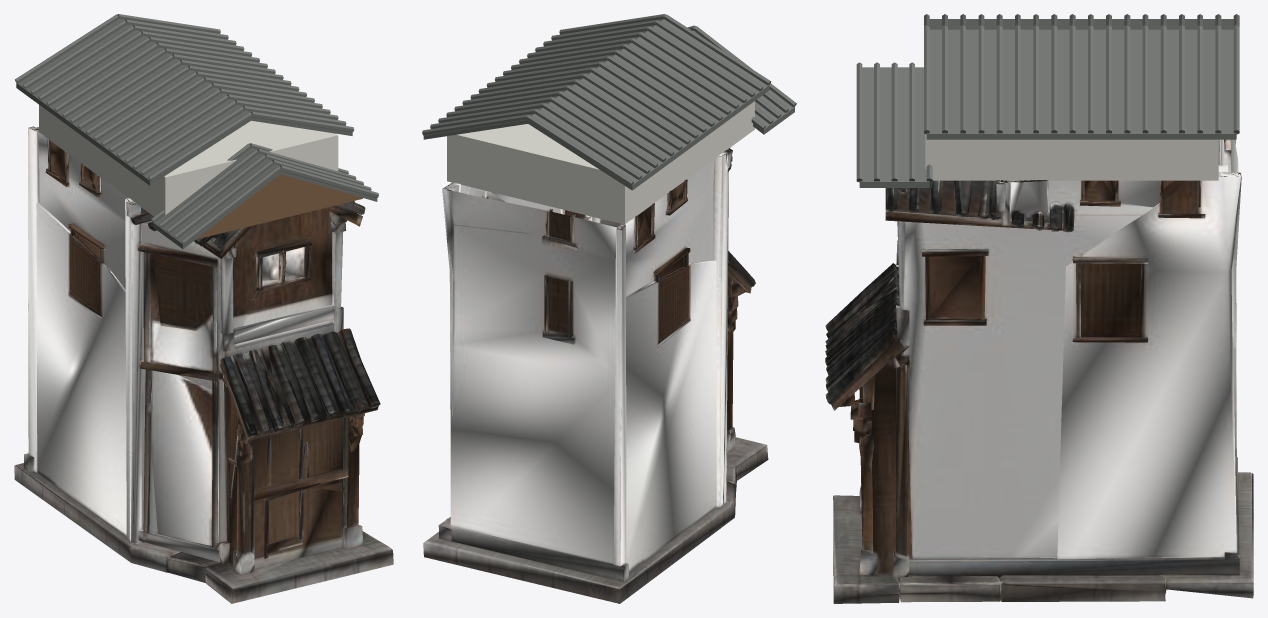
File: clock-v2-720.glb
3 renders of one model, left to right at view 1: azimuth 30°, elevation 25°; view 2: azimuth 150°, elevation 25°; view 3: azimuth 270°, elevation 25°, orthographic. The views are drawn at different scales.
Visible parts, largest first — view 1: Mesh_0, Clock_main_sealed_roof, Clock_upper_complete_walls, Clock_front_complete_gable, Clock_front_sealed_roof, Clock_front_sealed_roof_tile_0_-1, Clock_front_sealed_roof_tile_3_-1, Clock_front_sealed_roof_tile_1_-1, Clock_front_sealed_roof_tile_2_-1, Clock_main_sealed_roof_tile_0_-1, Clock_main_sealed_roof_tile_1_-1, Clock_main_sealed_roof_tile_2_-1 (+34 smaller); view 2: Mesh_0, Clock_upper_complete_walls, Clock_main_sealed_roof, Clock_main_sealed_roof_tile_0_-1, Clock_main_sealed_roof_tile_11_-1, Clock_main_sealed_roof_tile_12_-1, Clock_main_sealed_roof_tile_7_-1, Clock_main_sealed_roof_tile_10_-1, Clock_main_sealed_roof_tile_13_-1, Clock_main_sealed_roof_tile_2_-1, Clock_main_sealed_roof_tile_5_-1, Clock_main_sealed_roof_tile_6_-1 (+28 smaller); view 3: Mesh_0, Clock_main_sealed_roof, Clock_upper_complete_walls, Clock_front_sealed_roof, Clock_front_sealed_roof_tile_0_1, Clock_front_sealed_roof_tile_2_1, Clock_main_sealed_roof_tile_17_1, Clock_main_sealed_roof_tile_4_1, Clock_main_sealed_roof_tile_7_1, Clock_main_sealed_roof_tile_8_1, Clock_main_sealed_roof_tile_11_1, Clock_main_sealed_roof_tile_13_1 (+14 smaller).
Part boxes in pixels (<box>): Mesh_0: <box>14,126,393,603</box>; Clock_main_sealed_roof: <box>16,19,352,185</box>; Clock_upper_complete_walls: <box>39,105,338,216</box>; Clock_front_complete_gable: <box>196,174,362,239</box>; Clock_front_sealed_roof: <box>153,148,377,248</box>; Clock_front_sealed_roof_tile_0_-1: <box>181,166,281,244</box>; Clock_front_sealed_roof_tile_3_-1: <box>158,149,258,227</box>; Clock_front_sealed_roof_tile_1_-1: <box>174,160,273,239</box>; Clock_front_sealed_roof_tile_2_-1: <box>166,155,266,233</box>; Clock_main_sealed_roof_tile_0_-1: <box>148,112,252,181</box>; Clock_main_sealed_roof_tile_1_-1: <box>140,106,244,175</box>; Clock_main_sealed_roof_tile_2_-1: <box>132,100,236,169</box>; Mesh_0: <box>423,147,768,603</box>; Clock_upper_complete_walls: <box>447,101,754,224</box>; Clock_main_sealed_roof: <box>423,19,769,190</box>; Clock_main_sealed_roof_tile_0_-1: <box>663,14,771,85</box>; Clock_main_sealed_roof_tile_11_-1: <box>575,79,682,150</box>; Clock_main_sealed_roof_tile_12_-1: <box>567,85,674,156</box>; Clock_main_sealed_roof_tile_7_-1: <box>607,56,714,126</box>; Clock_main_sealed_roof_tile_10_-1: <box>583,73,690,144</box>; Clock_main_sealed_roof_tile_13_-1: <box>559,91,666,162</box>; Clock_main_sealed_roof_tile_2_-1: <box>647,26,754,97</box>; Clock_main_sealed_roof_tile_5_-1: <box>623,44,730,114</box>; Clock_main_sealed_roof_tile_6_-1: <box>615,50,722,120</box>; Mesh_0: <box>825,139,1253,603</box>; Clock_main_sealed_roof: <box>926,19,1236,139</box>; Clock_upper_complete_walls: <box>925,134,1218,180</box>; Clock_front_sealed_roof: <box>859,67,929,187</box>; Clock_front_sealed_roof_tile_0_1: <box>856,63,862,182</box>; Clock_front_sealed_roof_tile_2_1: <box>891,63,897,181</box>; Clock_main_sealed_roof_tile_17_1: <box>1233,26,1239,134</box>; Clock_main_sealed_roof_tile_4_1: <box>996,26,1002,133</box>; Clock_main_sealed_roof_tile_7_1: <box>1051,26,1057,133</box>; Clock_main_sealed_roof_tile_8_1: <box>1069,26,1075,133</box>; Clock_main_sealed_roof_tile_11_1: <box>1124,26,1130,133</box>; Clock_main_sealed_roof_tile_13_1: <box>1160,26,1166,133</box>.
Bounding box in the file's own units: 3.84 × 8.03 × 5.99.
4 materials, 1 textured.
